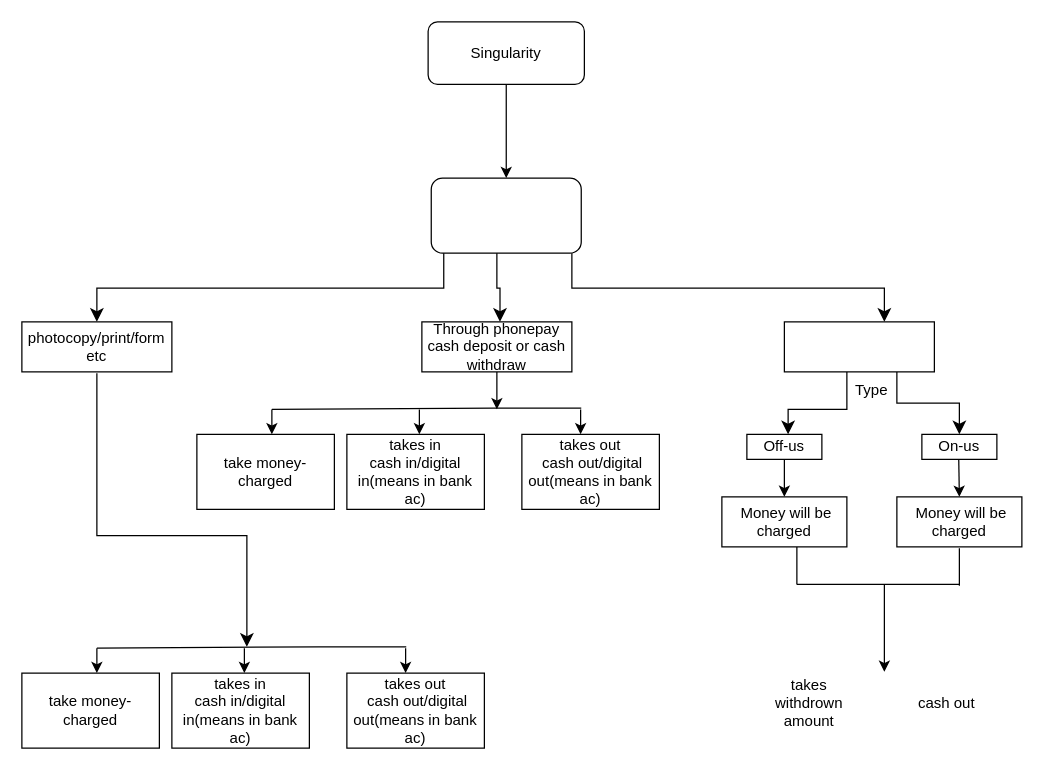
Image size: 1044x770. Some labels were removed from this diagram. The shapes that lost their labels are listed below. From the top down, each one's centre as x and y in pixels, then its label:
point 505,215: Transection name
point 858,346: Through Kiyosk
